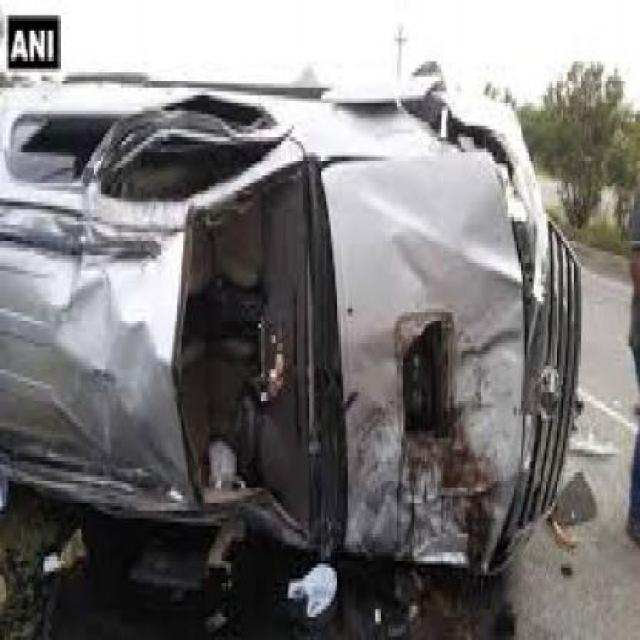accident: (0, 54, 602, 604)
